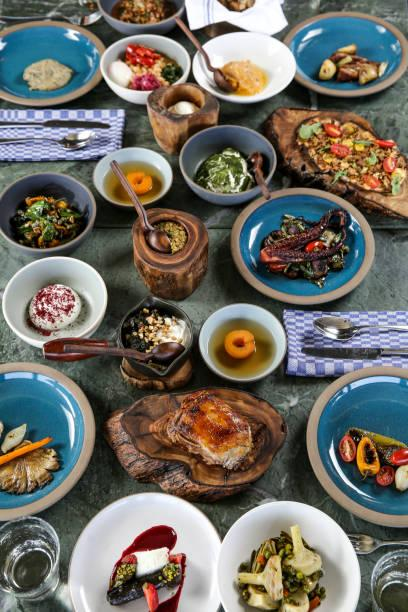Braised Crucian Carp: (101, 387, 281, 501), (68, 494, 222, 609), (229, 188, 374, 302), (216, 501, 360, 610), (0, 258, 105, 344), (0, 171, 95, 258), (179, 124, 275, 204), (193, 31, 295, 105), (100, 33, 192, 105)
